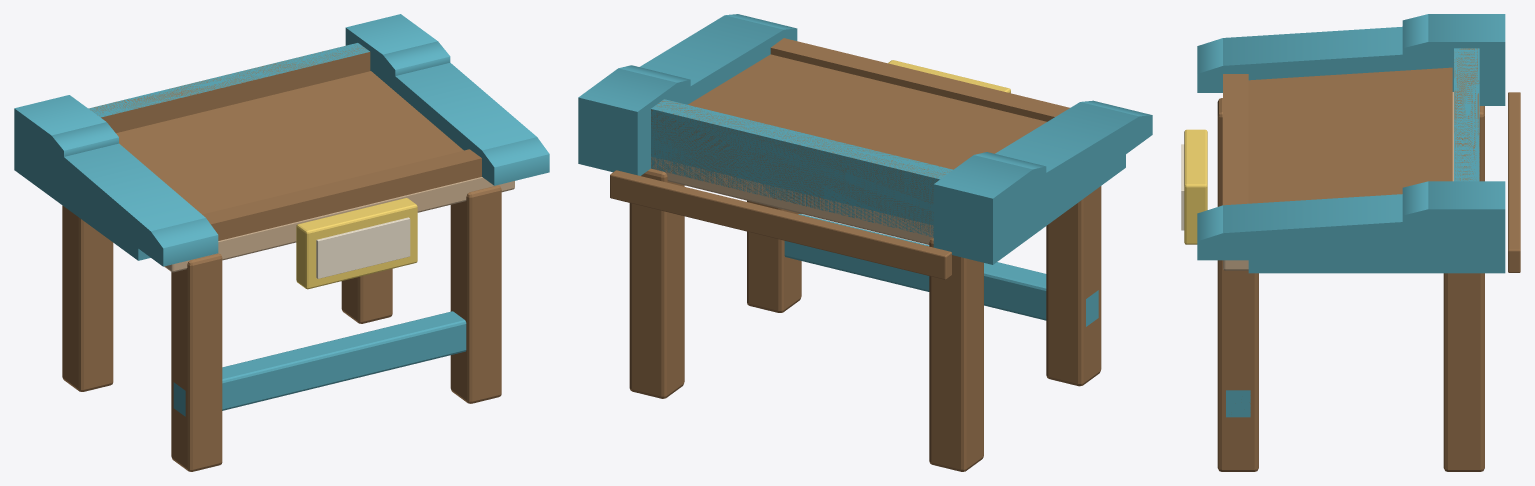
The model's file is PA_DepartureTrainingShelf.fbx.
3 views of the same model, side by side, from view 1: azimuth 30°, elevation 25°; view 2: azimuth 150°, elevation 25°; view 3: azimuth 270°, elevation 25° (orthographic). The views are drawn at different scales.
Parts seen in each view (by area): view 1: PA_DepartureTrainingShelf; view 2: PA_DepartureTrainingShelf; view 3: PA_DepartureTrainingShelf.
Boxes of the visible parts, box(x1,y1,x2,y2) form: PA_DepartureTrainingShelf: box(14, 14, 549, 471); PA_DepartureTrainingShelf: box(578, 14, 1152, 471); PA_DepartureTrainingShelf: box(1181, 14, 1520, 471).
Size of the model in its own units: 1.8 by 1.22 by 1.32.
